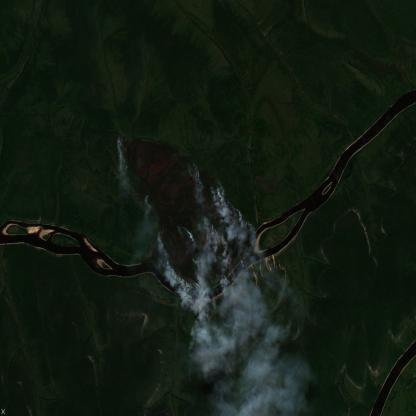fire: (116, 135, 256, 296)
